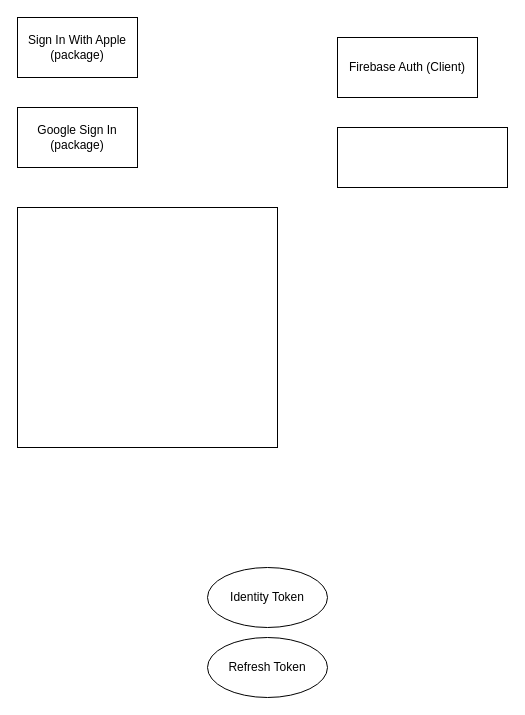
The diagram is 525 pixels wide and 715 high, and some of its shapes have lost their labels. Each missing label, with the centre of its shape:
Auth Screen: [147,327]
Firebase Auth (Cloud): [422,157]
